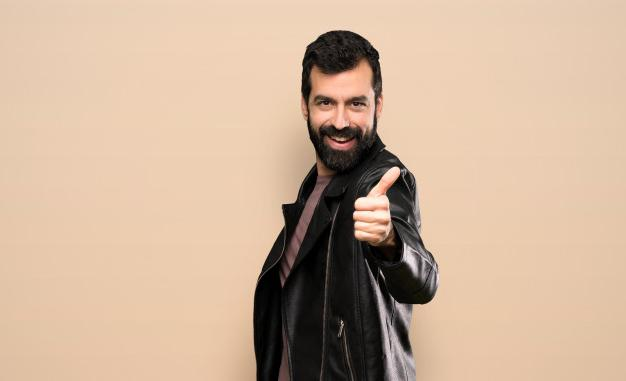thumbsup: (353, 166, 401, 242)
